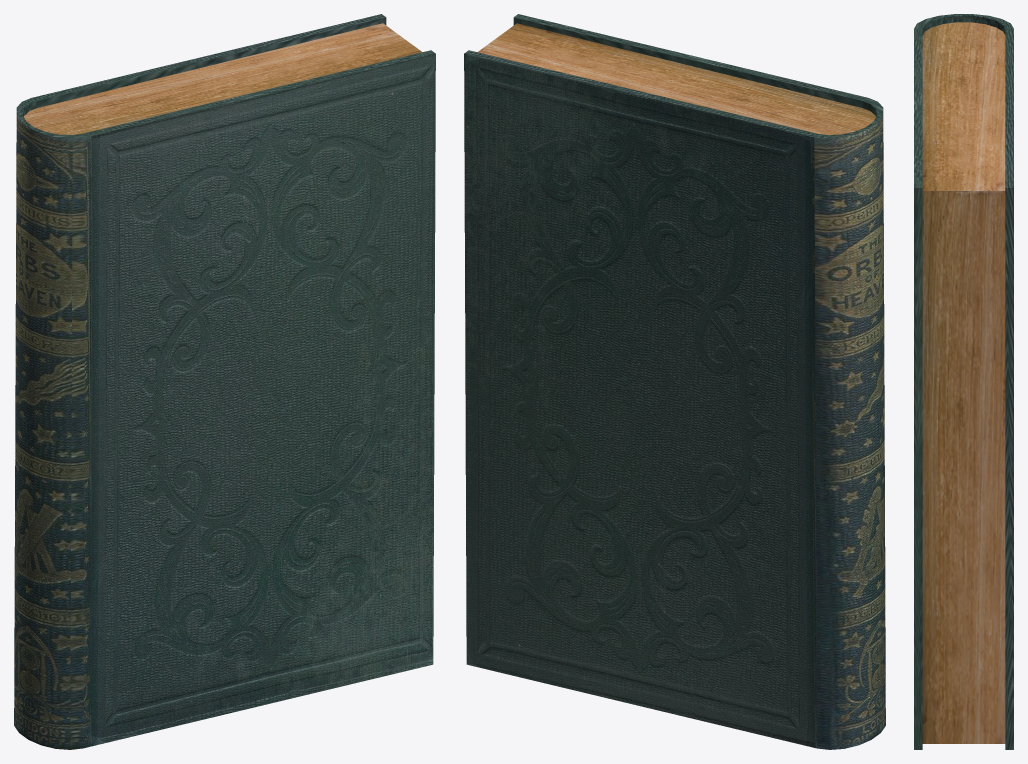
File: SM_Book10.fbx
3 renders of one model, left to right at view 1: azimuth 30°, elevation 25°; view 2: azimuth 150°, elevation 25°; view 3: azimuth 270°, elevation 25°, orthographic. The views are drawn at different scales.
Parts seen in each view (by area): view 1: SM_Book_HP.013; view 2: SM_Book_HP.013; view 3: SM_Book_HP.013.
Part boxes in pixels (bbox=[...]): SM_Book_HP.013: bbox=[14, 14, 435, 749]; SM_Book_HP.013: bbox=[464, 14, 885, 749]; SM_Book_HP.013: bbox=[914, 14, 1013, 749].
Bounding box in the file's own units: 17.25 × 26.21 × 4.2.
Materials: 2 (2 with a texture image).
